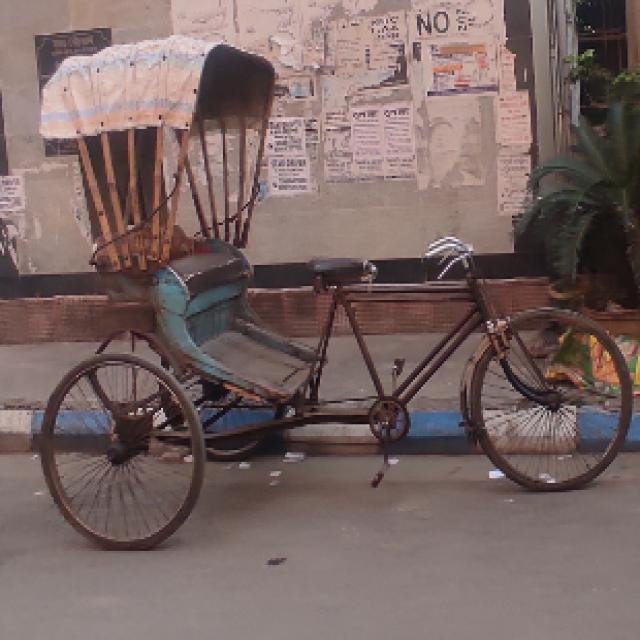rickshaw: (31, 35, 634, 551)
